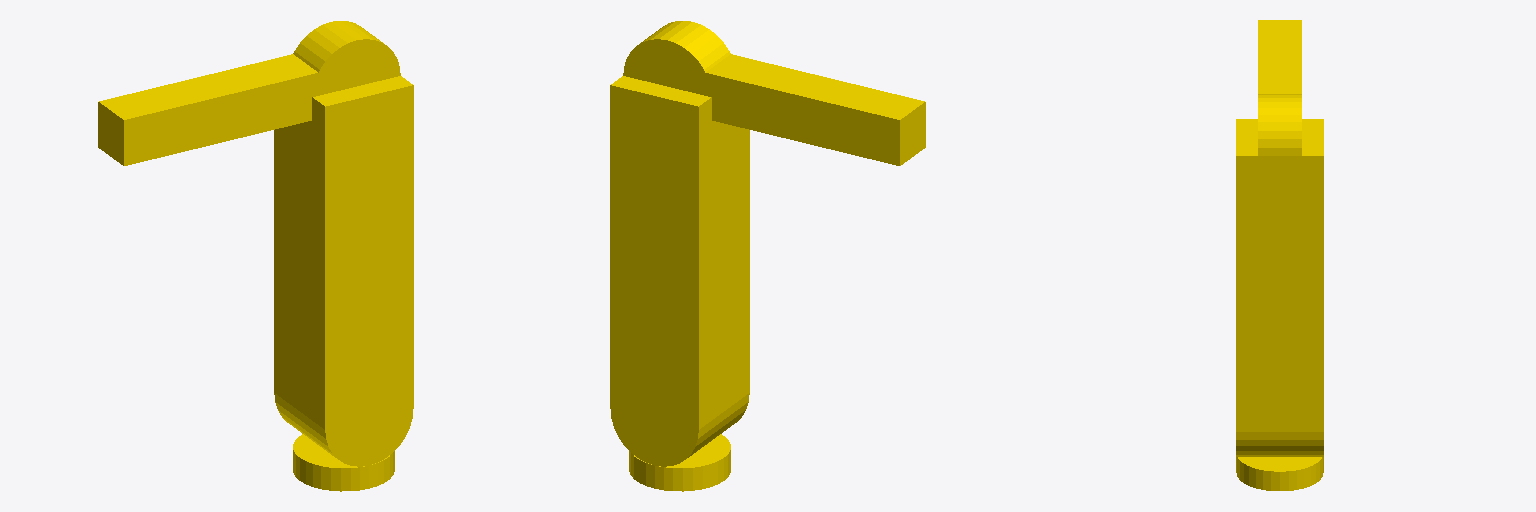
URDF robot description (crane):
<?xml version="1.0" ?>
<robot name="crane">
    <material name="gold">
        <color rgba="1 0.882 0 1"/>
    </material>
   
    <link name="crane_base_link"/>
    <link name="crane_yaw">
        <visual>
            <origin xyz="0 0 0.05" rpy="0 0 0" />
            <geometry>
               <cylinder length="0.1" radius="0.2"/>
            </geometry>
            <material name="gold"/>
        </visual>
        <collision>
            <origin xyz="0 0 0.05" rpy="0 0 0" />
            <geometry>
                <cylinder length="0.1" radius="0.2"/>
            </geometry>
        </collision>    
    </link>
    
    <joint name="joint0_1" type="revolute">
        <parent link="crane_base_link"/>
        <child link="crane_yaw"/>
        <origin xyz="0 0 0" rpy="0 0 0"/>
        <axis xyz="0 0 1"/>
        <limit lower="-0.523599" upper="0.523599" effort="0" velocity="0"/>
    </joint>

    <link name="crane_link1">
        <visual>
            <origin xyz="0 0 0" rpy="1.5708 0 0" />
            <geometry>
               <cylinder length="0.4" radius="0.2"/>
            </geometry>
            <material name="gold"/>
        </visual>
        <collision>
            <origin xyz="0 0 0" rpy="1.5708 0 0" />
            <geometry>
                <cylinder length="0.4" radius="0.2"/>
            </geometry>
        </collision>  

        <visual>
            <origin xyz="-0.7 0 0" rpy="0 0 0" />
            <geometry>
               <box size="1.4 0.4 0.4"/>
            </geometry>
            <material name="gold"/>
        </visual>
        <collision>
            <origin xyz="-0.7 0 0" rpy="0 0 0" />
            <geometry>
                <box size="1.4 0.4 0.4"/>
            </geometry>
        </collision>
    </link>


    <joint name="joint0_2" type="revolute">
        <parent link="crane_yaw"/> 
        <child link="crane_link1"/>
        <origin xyz="0 0 0.3" rpy="0 1.5708 0"/>
        <axis xyz="0 1 0"/>
        <limit lower="0.0" upper="1.5708" effort="0" velocity="0"/>
    </joint>


    <link name="crane_link2">
        <visual>
            <origin xyz="0.55 0 0" rpy="0 0 0" />
            <geometry>
               <box size="1.1 0.35 0.35"/>
            </geometry>
            <material name="gold"/>
        </visual>
        <collision>
            <origin xyz="0.55 0 0" rpy="0 0 0" />
            <geometry>
                <box size="1.1 0.35 0.35"/>
            </geometry>
        </collision>
    </link>

    <joint name="joint0_3" type="prismatic">
        <parent link="crane_link1"/>
        <child link="crane_link2"/>
        <origin xyz="-1.4 0 0" rpy="0 0 0"/>
        <axis xyz="-1 0 0"/>
        <limit lower="0.0" upper="1.1" effort="0" velocity="0"/>
    </joint>

    <link name="crane_link3">
        <visual>
            <origin xyz="0.55 0 0" rpy="0 0 0" />
            <geometry>
               <box size="1.1 0.3 0.3"/>
            </geometry>
            <material name="gold"/>
        </visual>
        <collision>
            <origin xyz="0.55 0 0" rpy="0 0 0" />
            <geometry>
                <box size="1.1 0.3 0.3"/>
            </geometry>
        </collision>
    </link>

    <joint name="joint0_4" type="prismatic">
        <parent link="crane_link2"/>
        <child link="crane_link3"/>
        <origin xyz="0 0 0" rpy="0 0 0"/>
        <axis xyz="-1 0 0"/>
        <limit lower="0.0" upper="1.1" effort="0" velocity="0"/>
    </joint>

    <link name="crane_link4">
        <visual>
            <origin xyz="0.55 0 0" rpy="0 0 0" />
            <geometry>
               <box size="1.1 0.25 0.25"/>
            </geometry>
            <material name="gold"/>
        </visual>
        <collision>
            <origin xyz="0.55 0 0" rpy="0 0 0" />
            <geometry>
                <box size="1.1 0.25 0.25"/>
            </geometry>
        </collision>
    </link>

    <joint name="joint0_5" type="prismatic">
        <parent link="crane_link3"/>
        <child link="crane_link4"/>
        <origin xyz="0 0 0" rpy="0 0 0"/>
        <axis xyz="-1 0 0"/>
        <limit lower="0.0" upper="1.1" effort="0" velocity="0"/>
    </joint>

    <link name="tip">
        <visual>
            <origin xyz="0 0 0" rpy="1.5708 0 0" />
            <geometry>
               <cylinder length="0.2" radius="0.2"/>
            </geometry>
            <material name="gold"/>
        </visual>
        <collision>
            <origin xyz="0 0 0" rpy="1.5708 0 0" />
            <geometry>
               <cylinder length="0.2" radius="0.2"/>
            </geometry>
            <material name="gold"/>
        </collision>
        
        <visual>
            <!-- 0.5 + 0.054 -->
            <origin xyz="0 0 -0.554" rpy="0 0 0" />
            <geometry>
               <box size="0.2 0.2 1.0"/>
            </geometry>
            <material name="gold"/>
        </visual>
        <collision>
            <origin xyz="0 0 -0.554" rpy="0 0 0" />
            <geometry>
               <box size="0.2 0.2 1.0"/>
            </geometry>
            <material name="gold"/>
        </collision>
    </link>

    <joint name="tip_joint" type="revolute">
        <parent link="crane_link4"/>
        <child link="tip"/>
        <origin xyz="0 0 0" rpy="0 0 0"/>
        <axis xyz="0 1 0"/>
        <limit lower="0.0" upper="1.1" effort="0" velocity="0"/>
    </joint>

</robot>

--- Facts derived from the render (not from the file) ---
3 views of the same robot in one strip: view 1: azimuth 30°, elevation 25°; view 2: azimuth 150°, elevation 25°; view 3: azimuth 270°, elevation 25° (orthographic).
Model crane with 7 links and 6 joints (3 revolute, 3 prismatic), rooted at crane_base_link, posed all joints at 0.
Links seen in each view (by area): view 1: crane_link1, tip, crane_yaw; view 2: crane_link1, tip, crane_yaw, crane_link2; view 3: crane_link1, tip, crane_yaw.
Link boxes in pixels (box(x1,y1,x2,y2)): crane_link1: box(274, 76, 413, 466); tip: box(98, 21, 400, 165); crane_yaw: box(293, 434, 394, 491); crane_link1: box(610, 76, 749, 466); tip: box(623, 21, 925, 165); crane_yaw: box(629, 434, 730, 491); crane_link2: box(620, 77, 704, 102); crane_link1: box(1236, 119, 1323, 456); tip: box(1258, 20, 1301, 155); crane_yaw: box(1236, 457, 1323, 490).
Bounding box of the posed robot: 1.25 × 0.4 × 1.9 m (x, y, z).
Geometry: primitives only (box / cylinder / sphere), no mesh files.